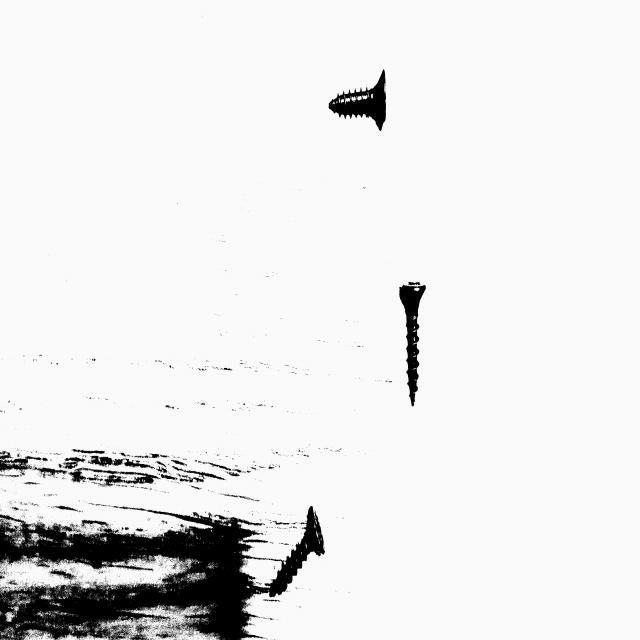Screw: (269, 506, 324, 597), (329, 67, 386, 129), (400, 281, 426, 405)
